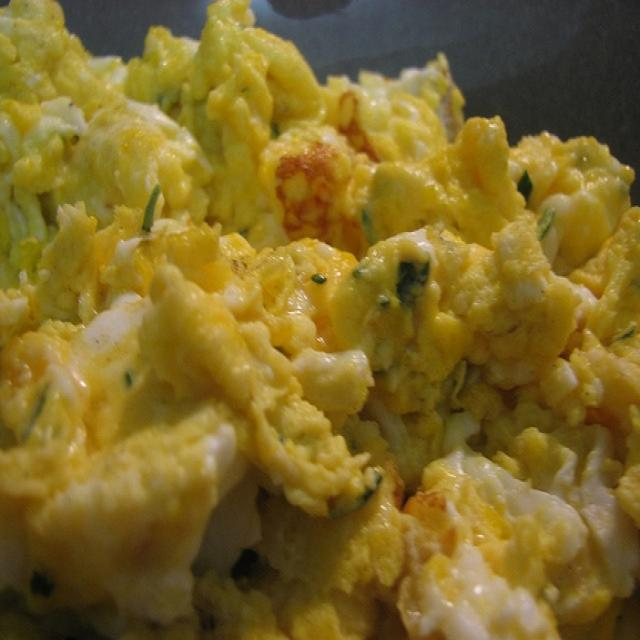鸡蛋料理: (13, 18, 601, 621)
